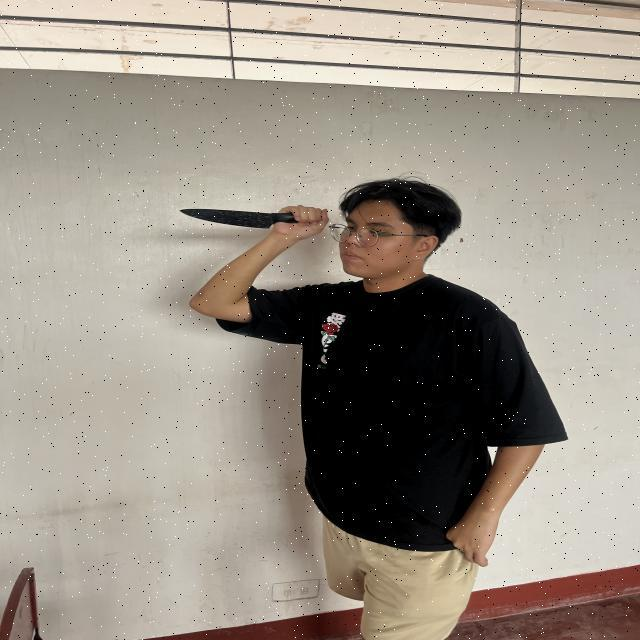knife: (181, 208, 295, 228)
non-violence: (180, 183, 560, 640)
